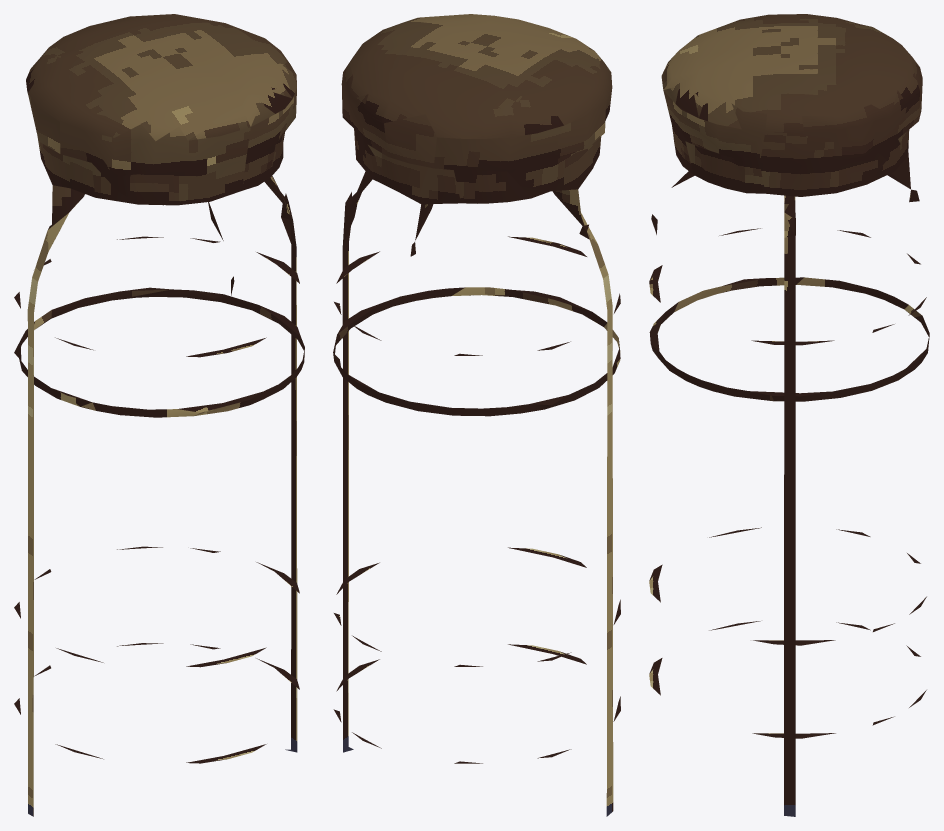
The model's file is metal_stool_01.glb.
3 renders of one model, left to right at view 1: azimuth 30°, elevation 25°; view 2: azimuth 150°, elevation 25°; view 3: azimuth 270°, elevation 25°, orthographic. The views are drawn at different scales.
Parts seen in each view (by area): view 1: mesh; view 2: mesh; view 3: mesh.
Boxes of the visible parts, x1,y1,x2,y2 form: mesh: (14,14,304,816); mesh: (333,14,620,816); mesh: (649,14,929,816).
Size of the model in its own units: 0.3324 by 0.8828 by 0.3171.
1 material, 1 textured.
